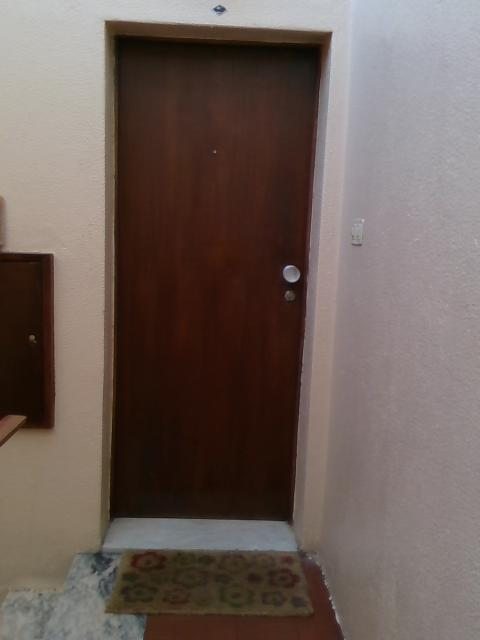door: (111, 34, 323, 522)
